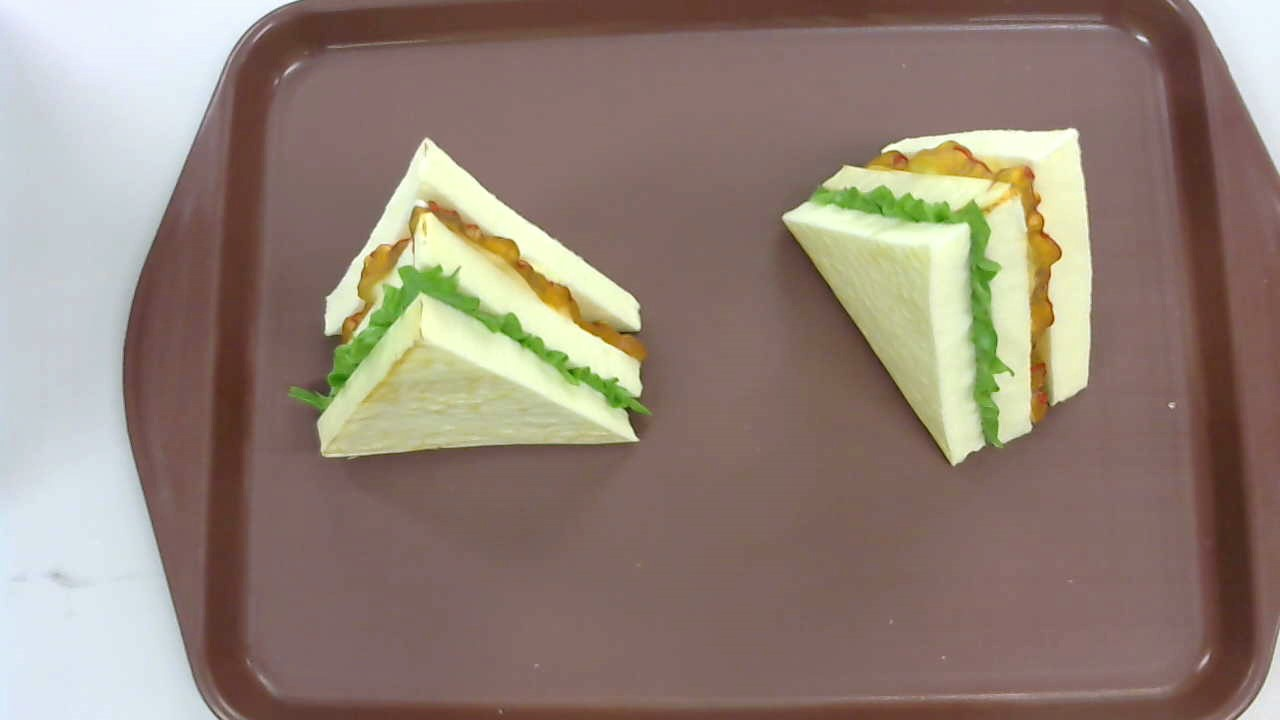sandwich: (288, 138, 654, 461), (781, 128, 1094, 466)
